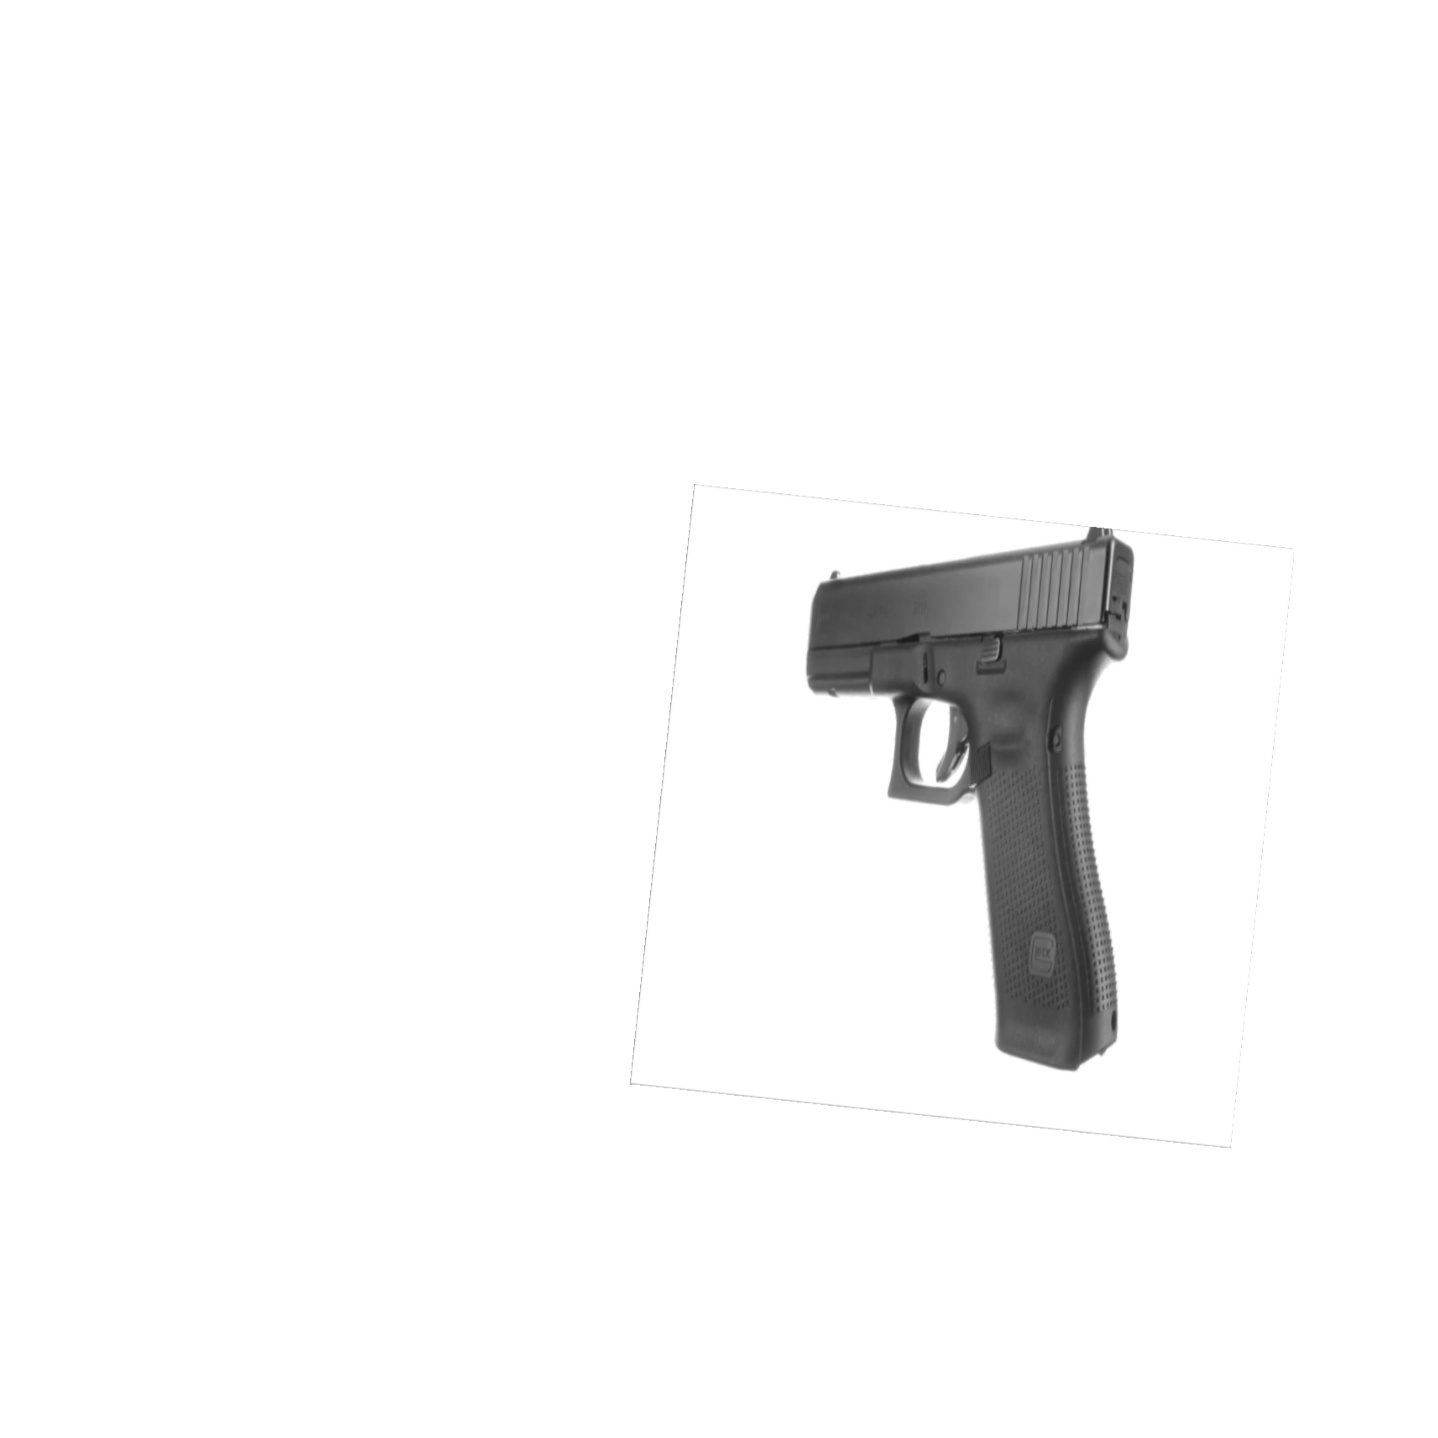gun: (809, 528, 1132, 1073)
